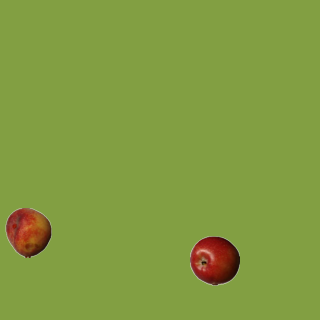Apple Braeburn: (189, 235, 239, 285)
Peach: (3, 207, 53, 257)
